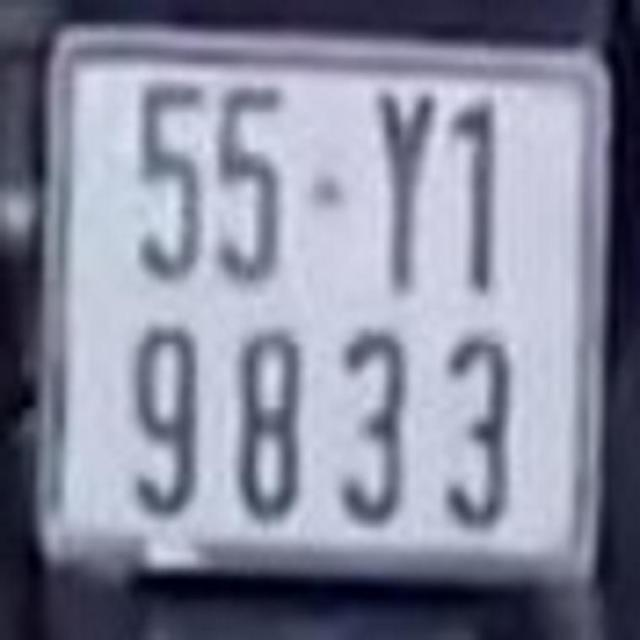1: (449, 97, 496, 290)
3: (450, 334, 513, 526), (342, 327, 402, 520)
5: (137, 79, 211, 282), (217, 80, 287, 283)
8: (237, 329, 308, 513)
9: (134, 320, 196, 507)
Y: (373, 82, 440, 296)
